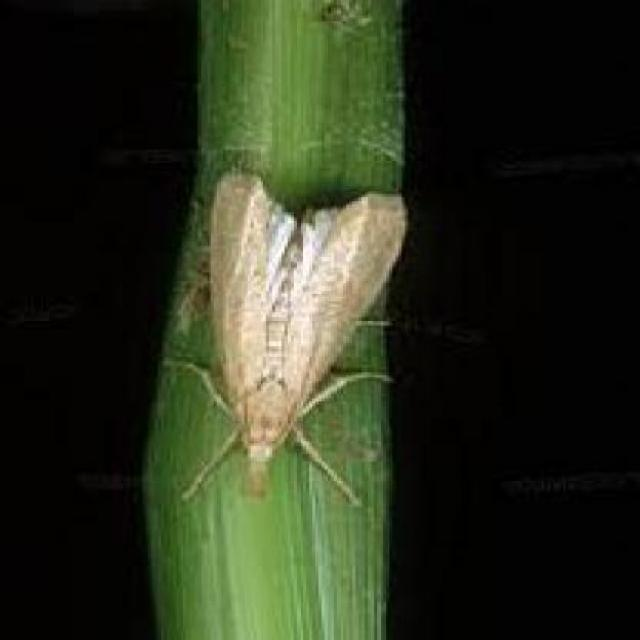stem-borer: (197, 165, 389, 492)
